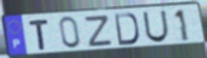0: (58, 15, 83, 51)
1: (173, 9, 191, 43)
D: (113, 12, 141, 47)
T: (27, 18, 51, 51)
U: (141, 9, 170, 44)
Z: (84, 14, 114, 49)
